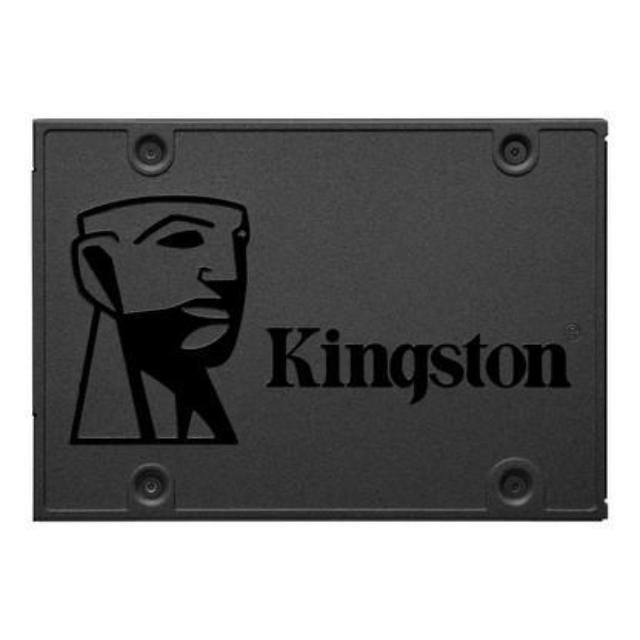DISK: (27, 112, 618, 523)
